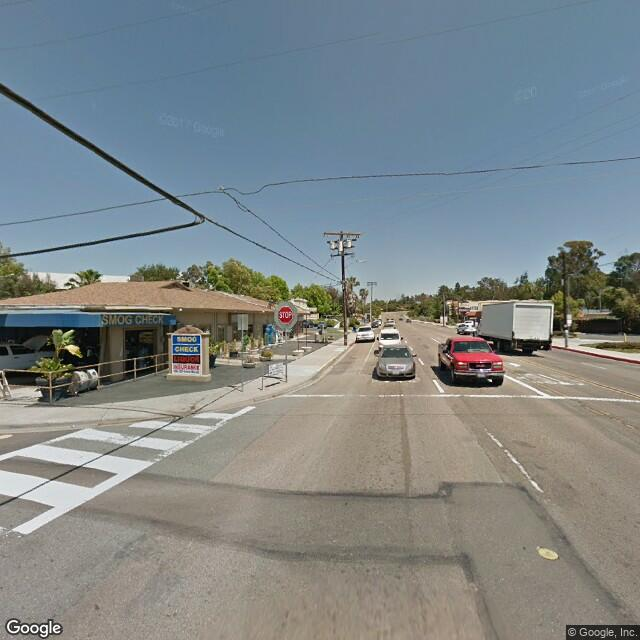litter: (68, 423, 79, 428)
